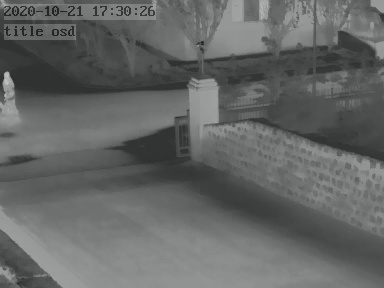person: (2, 68, 21, 118)
